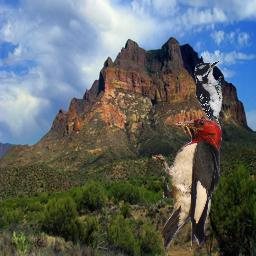Woodpecker: (152, 118, 222, 252), (194, 61, 224, 131)
